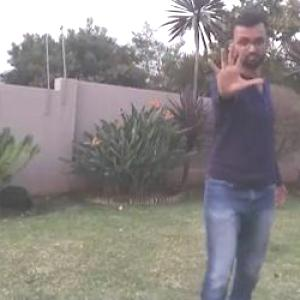follow_hand: (200, 35, 266, 102)
